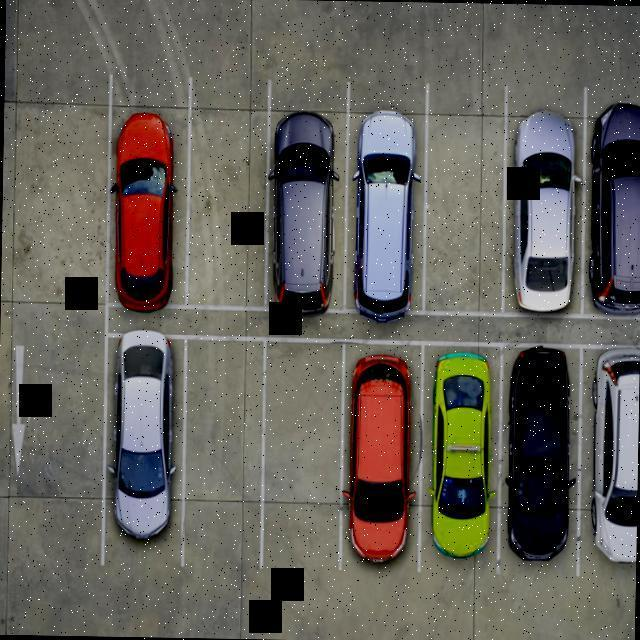car: (106, 71, 190, 311), (498, 344, 584, 572), (264, 85, 348, 314), (501, 90, 587, 312), (338, 342, 421, 570), (344, 84, 428, 308), (100, 340, 182, 568), (421, 346, 502, 566), (578, 348, 640, 570), (586, 86, 640, 299)
free: (186, 74, 266, 310), (263, 340, 342, 573), (184, 343, 264, 572), (424, 88, 502, 313)
